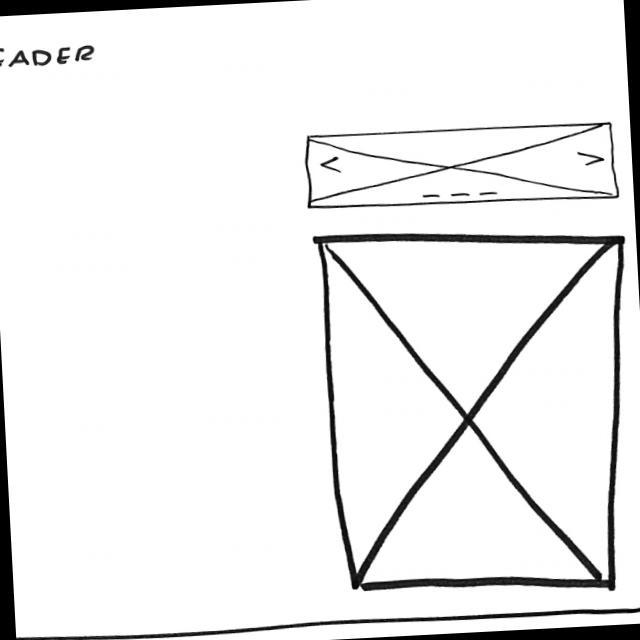container: (0, 38, 98, 71)
image: (310, 216, 640, 604), (302, 118, 623, 216)
